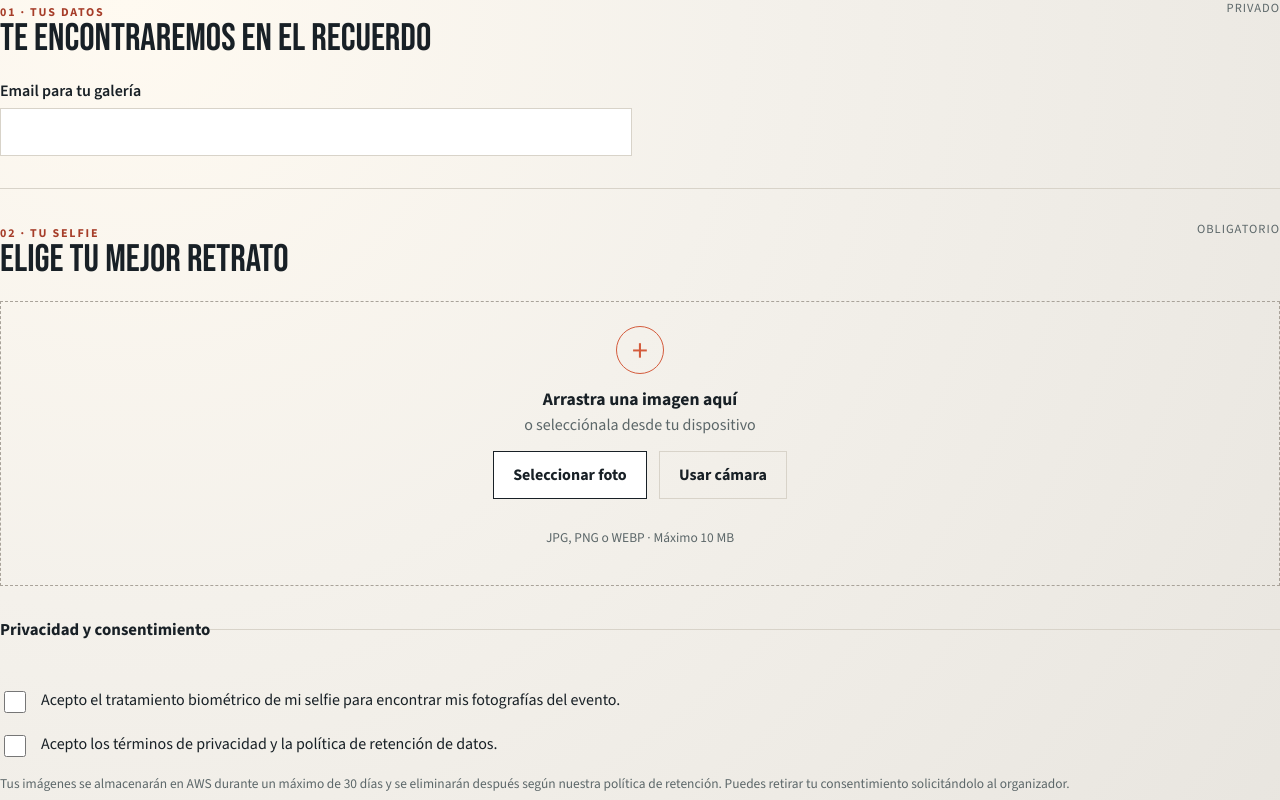
Scenario: SelfieCaptureForm › falls back with an announced message when camera access is denied
What coordinates should you click on to do the following:
click the button "Usar cámara"
I would click on:
 (723, 475)
Its box is [659,451,787,499].
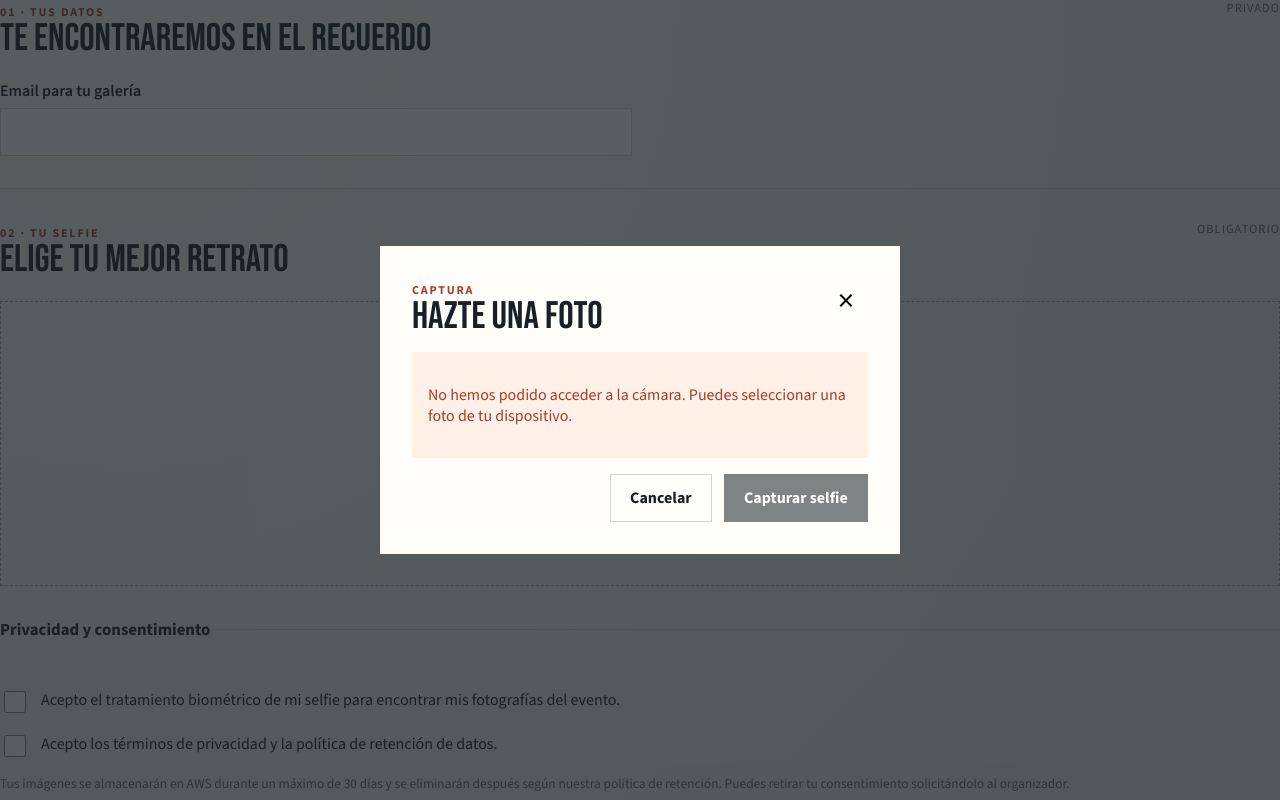
Result: the message shows "No hemos podido acceder a la cámara" at [428,384,846,426]
